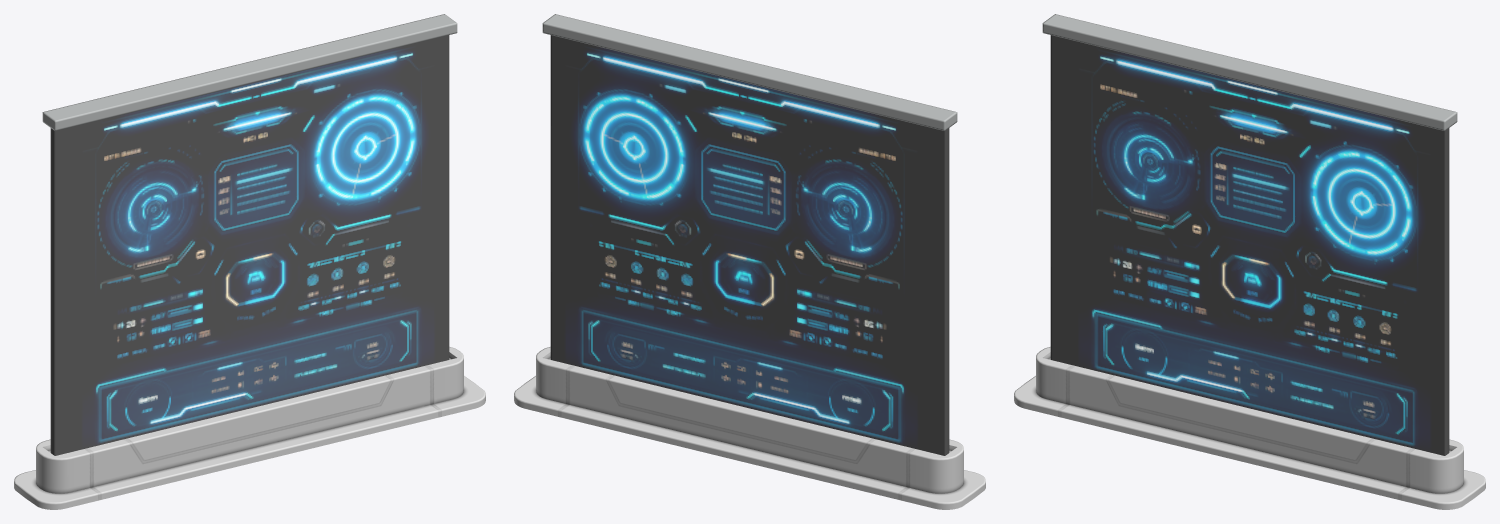
Rendered from Display04_1.FBX.
3 renders of one model, left to right at view 1: azimuth 30°, elevation 25°; view 2: azimuth 150°, elevation 25°; view 3: azimuth 330°, elevation 25°, orthographic.
Visible parts, largest first — view 1: Display04_1; view 2: Display04_1; view 3: Display04_1.
Part boxes in pixels (x1,y1,x2,y2): Display04_1: (14, 14, 485, 509); Display04_1: (514, 14, 985, 509); Display04_1: (1014, 14, 1485, 509).
Size of what is drawn, in the model's own units: 0.573 by 0.4602 by 0.0888.
